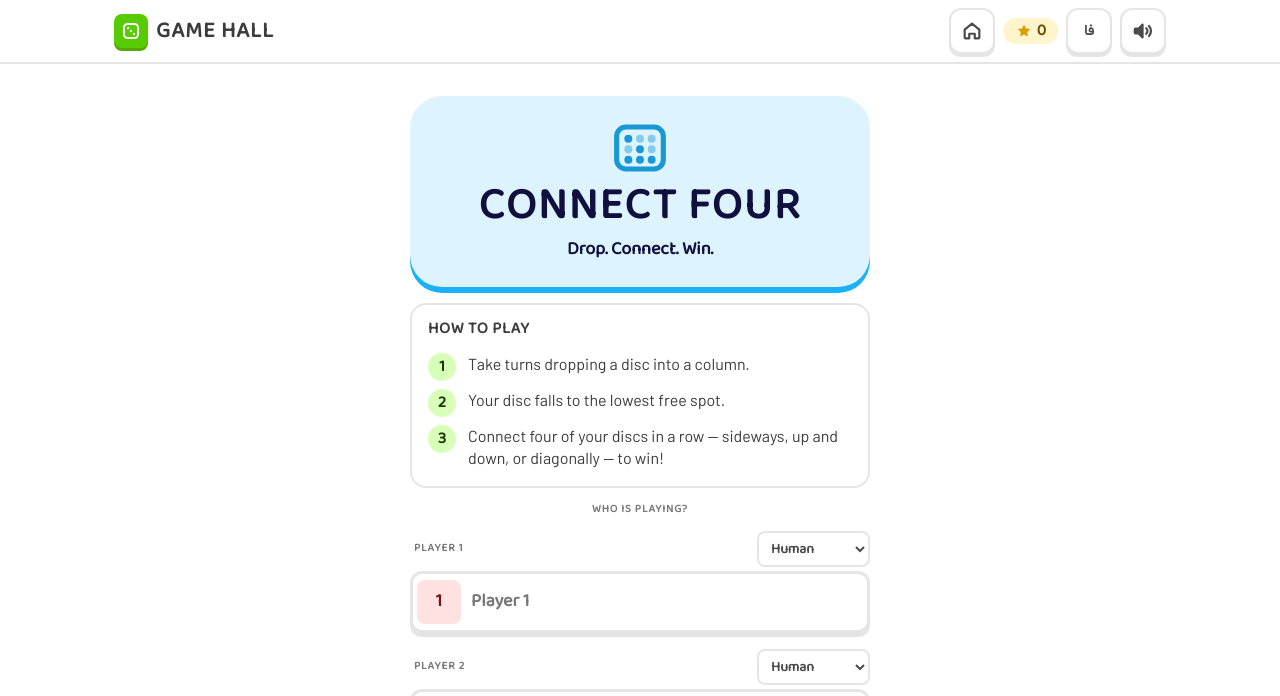
Connect Four — setup › starts with the names entered, or defaults
This screenshot has width=1280, height=696.
Type "Alex" into the field labelled "Player 1" at coordinates (666, 602), box left=469, top=578, right=863, bottom=626
(page scrolled)
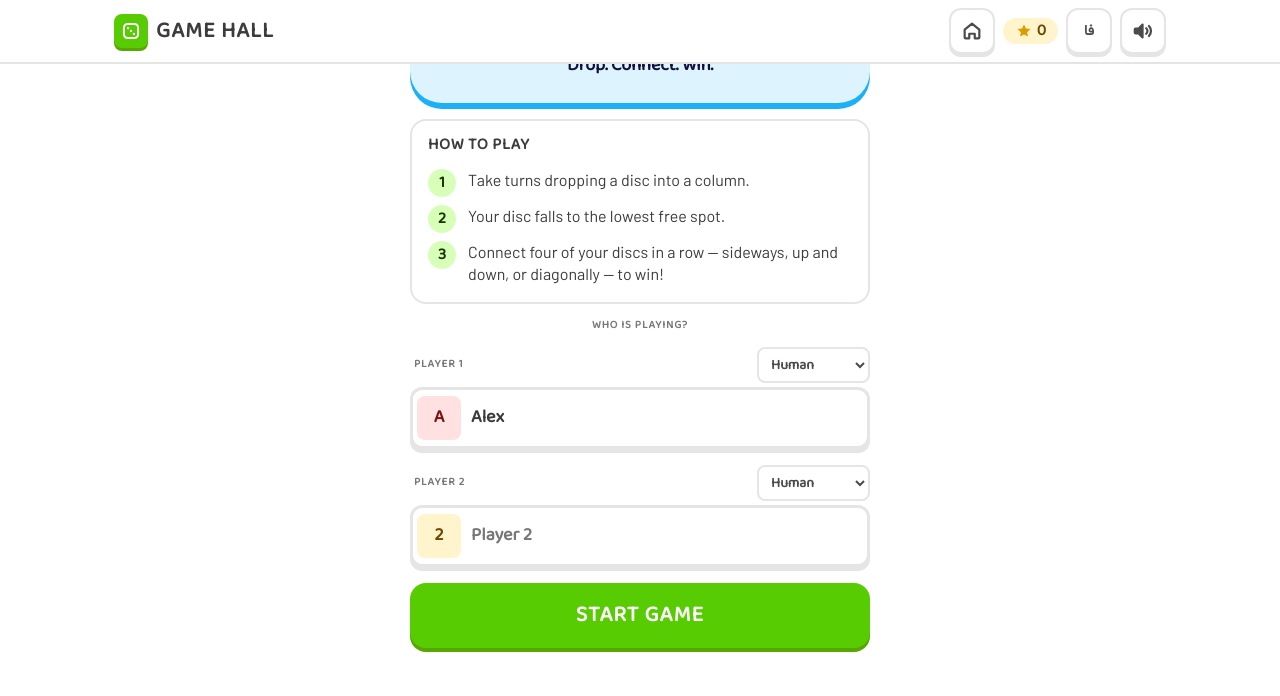
Click the button "Start game" at coordinates (640, 615), box left=410, top=583, right=870, bottom=648
(page scrolled)
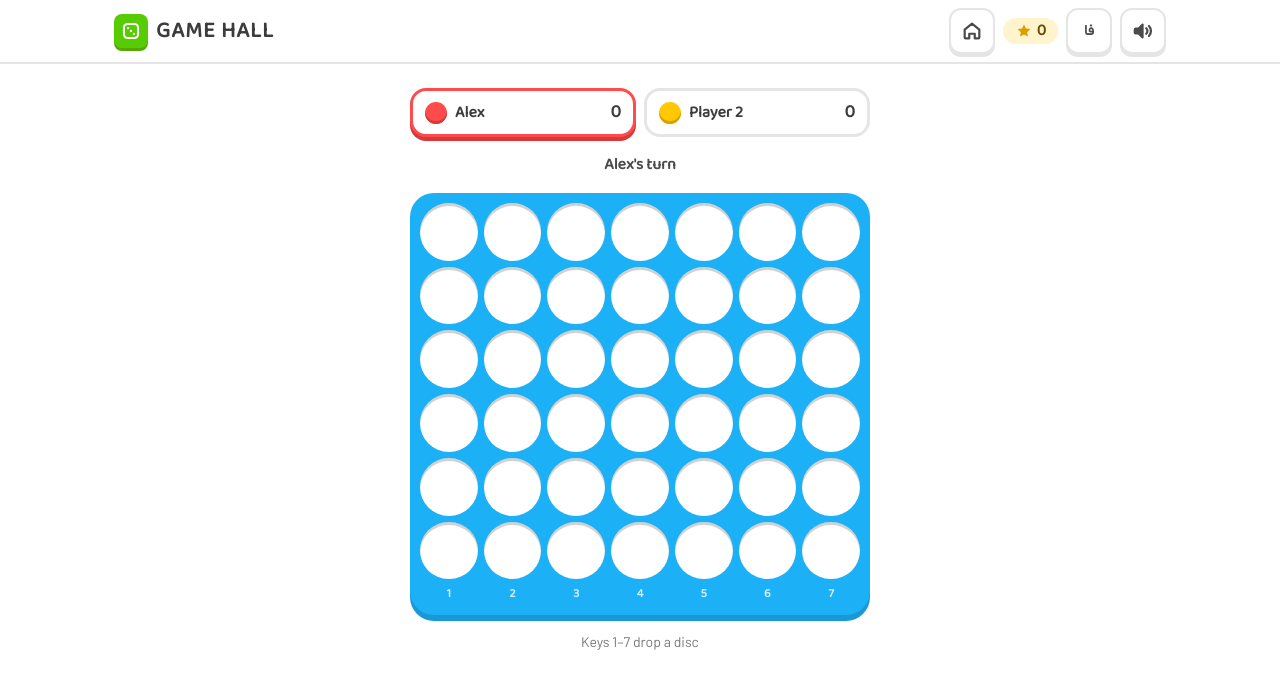
Check: the text "Player 2" is shown, box left=689, top=100, right=743, bottom=124
Check: the message with class "c4-status" reads "Alex's turn", box left=604, top=152, right=676, bottom=177
